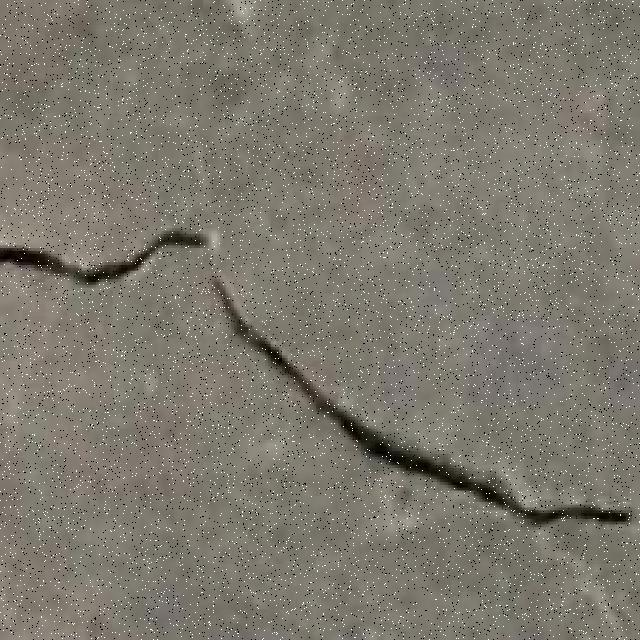Crack: (208, 272, 632, 524)
